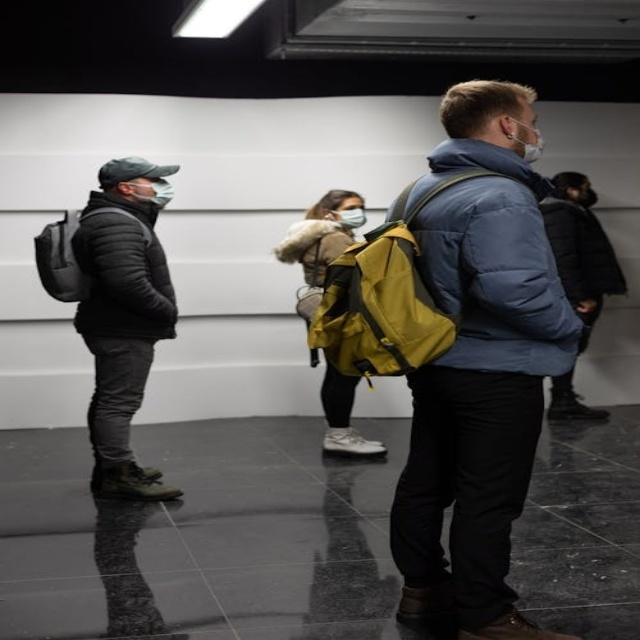Mascara: (503, 117, 546, 163), (135, 178, 175, 207), (334, 208, 367, 229), (574, 188, 598, 208)
